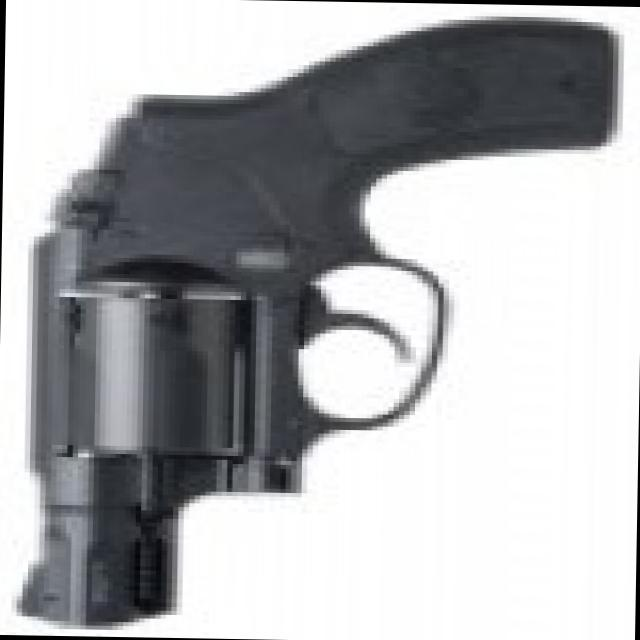handgun: (6, 11, 618, 633)
